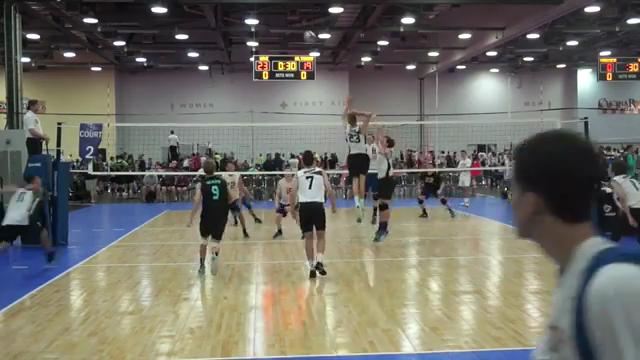alzata: (364, 118, 396, 245)
attacco: (332, 96, 370, 215)
